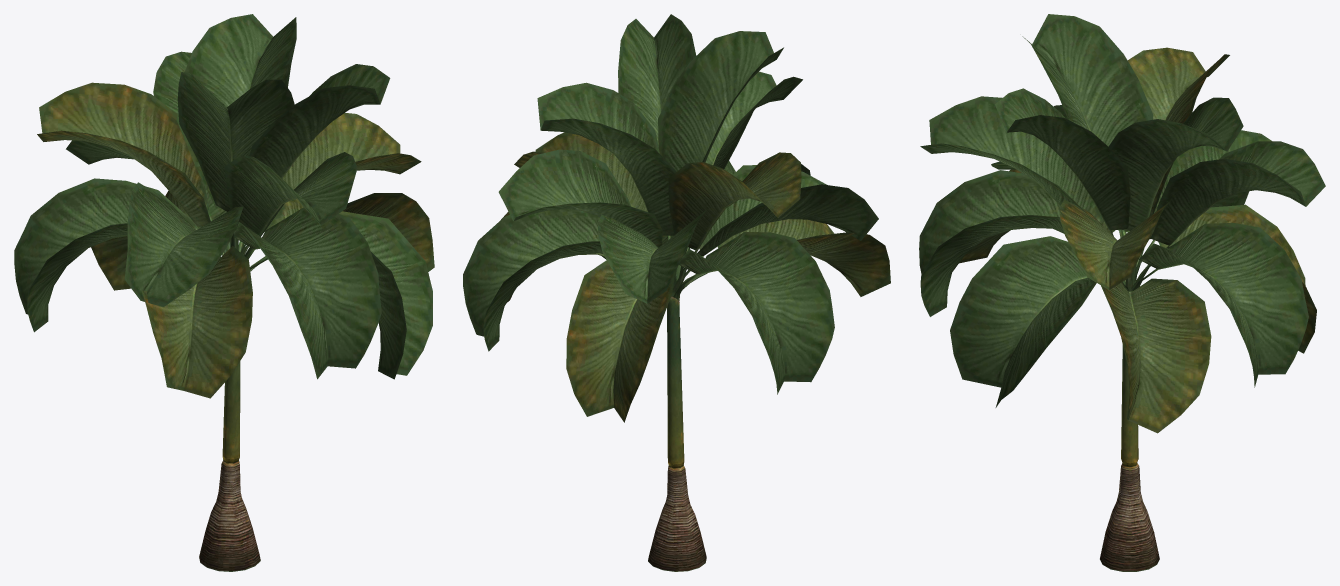
Rendered from Aneityum_Palm.FBX.
The picture shows the model from 3 angles, left to right: view 1: azimuth 30°, elevation 25°; view 2: azimuth 150°, elevation 25°; view 3: azimuth 270°, elevation 25°; orthographic projection. The views are drawn at different scales.
Visible parts, largest first — view 1: Aneityum_Palm; view 2: Aneityum_Palm; view 3: Aneityum_Palm.
Boxes of the visible parts, <box> form: Aneityum_Palm: <box>14,14,434,571</box>; Aneityum_Palm: <box>463,14,890,571</box>; Aneityum_Palm: <box>919,14,1325,571</box>.
Size of the model in its own units: 47.54 by 61.55 by 44.34.
